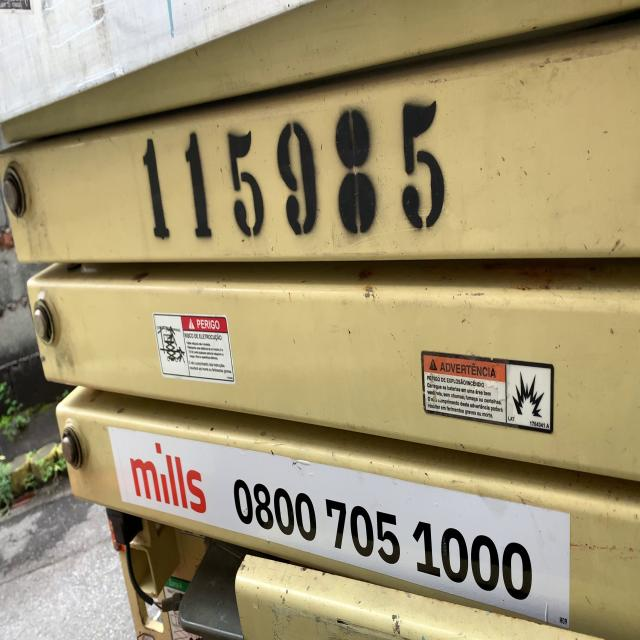Adesivo Longo: (107, 424, 573, 636)
